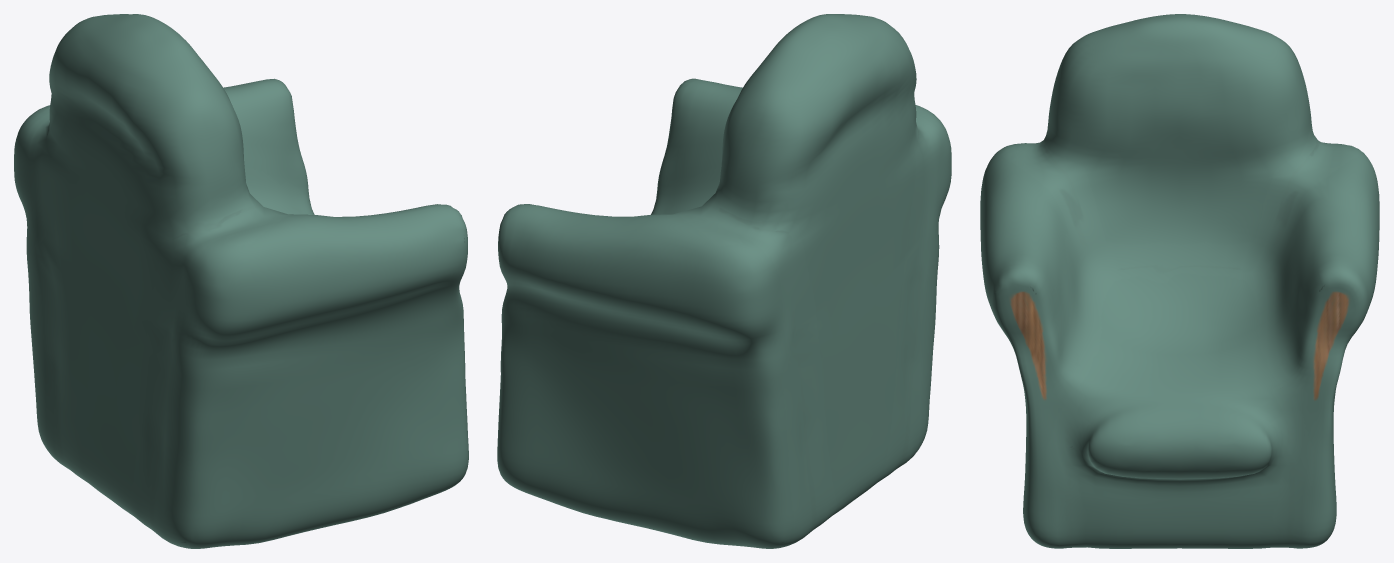
The model's file is armchair.fbx.
3 renders of one model, left to right at view 1: azimuth 30°, elevation 25°; view 2: azimuth 150°, elevation 25°; view 3: azimuth 270°, elevation 25°, orthographic. The views are drawn at different scales.
Visible parts, largest first — view 1: armchair; view 2: armchair; view 3: armchair.
Part boxes in pixels (left/top/right/bottom): armchair: left=14, top=14, right=468, bottom=548; armchair: left=497, top=14, right=951, bottom=548; armchair: left=980, top=14, right=1379, bottom=548.
Bounding box in the file's own units: 361 × 508 × 417.
